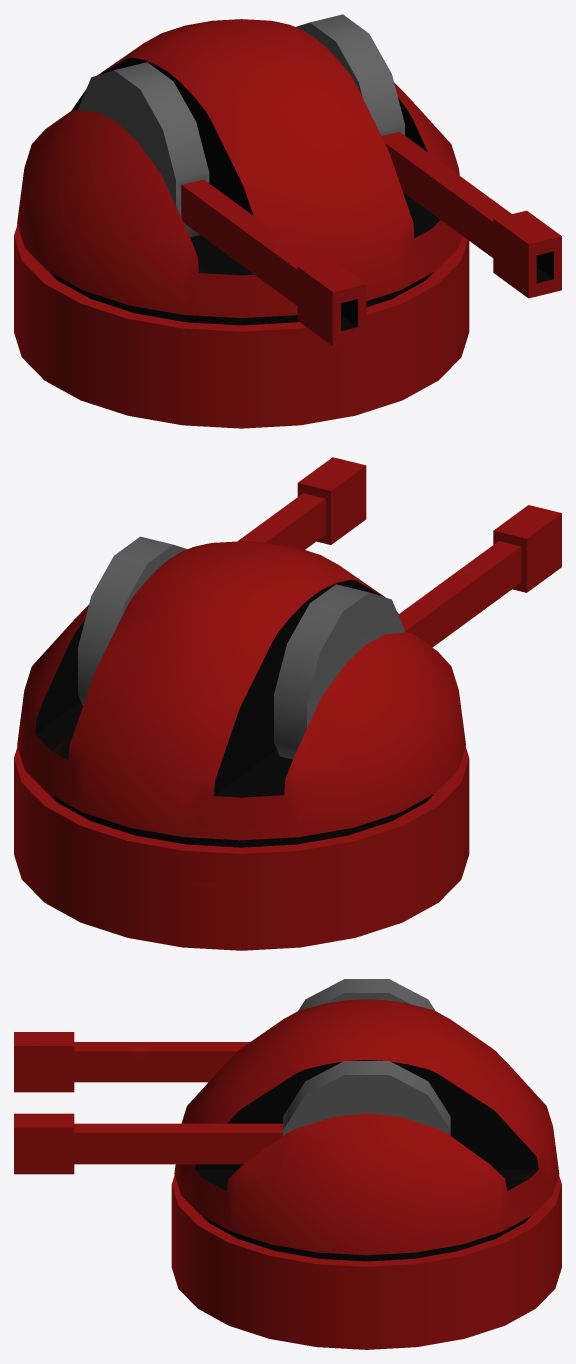
Rendered from Turret.dae.
The picture shows the model from 3 angles, top to bottom: view 1: azimuth 30°, elevation 25°; view 2: azimuth 150°, elevation 25°; view 3: azimuth 270°, elevation 25°; orthographic projection. The views are drawn at different scales.
Visible parts, largest first — view 1: TurretPivot, TurretBase, GunBarrels; view 2: TurretPivot, TurretBase, GunBarrels; view 3: TurretPivot, TurretBase, GunBarrels.
Boxes of the visible parts, <box> form: TurretPivot: <box>17,19,461,325</box>; TurretBase: <box>14,225,469,428</box>; GunBarrels: <box>78,14,561,345</box>; TurretPivot: <box>17,541,465,847</box>; TurretBase: <box>14,747,469,950</box>; GunBarrels: <box>78,457,561,759</box>; TurretPivot: <box>174,999,559,1261</box>; TurretBase: <box>171,1175,561,1349</box>; GunBarrels: <box>14,979,450,1174</box>.
Bounding box in the file's own units: 2 × 2.81 × 1.41.
Materials: 1 (1 with a texture image).
